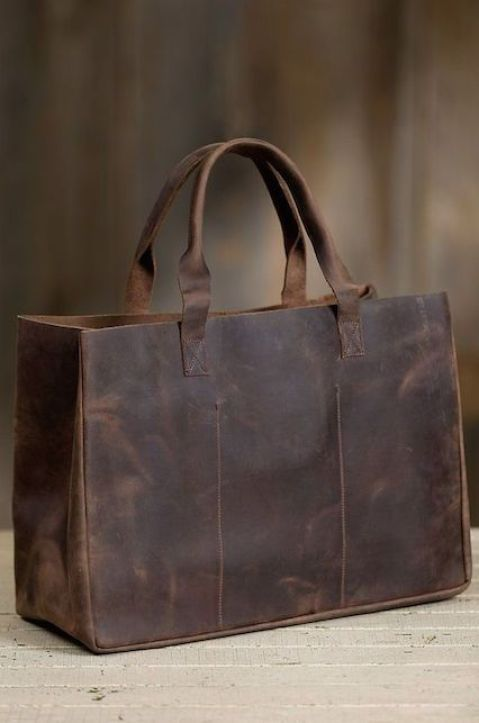cuero: (13, 137, 475, 655)
